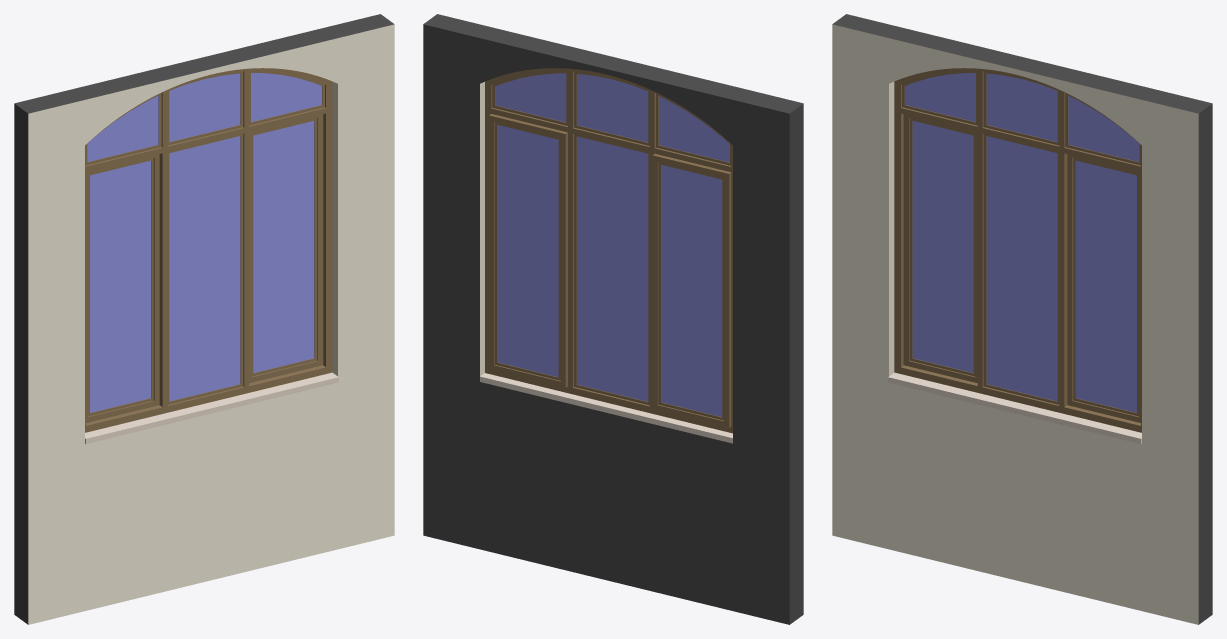
The model's file is Wall_L_3.fbx.
3 views of the same model, side by side, from view 1: azimuth 30°, elevation 25°; view 2: azimuth 150°, elevation 25°; view 3: azimuth 330°, elevation 25° (orthographic).
Parts seen in each view (by area): view 1: Wall_L_3; view 2: Wall_L_3; view 3: Wall_L_3.
Part boxes in pixels (bbox=[...]): Wall_L_3: bbox=[14, 14, 394, 624]; Wall_L_3: bbox=[423, 14, 803, 624]; Wall_L_3: bbox=[832, 14, 1212, 624].
Bounding box in the file's own units: 150 × 200 × 10.6.
